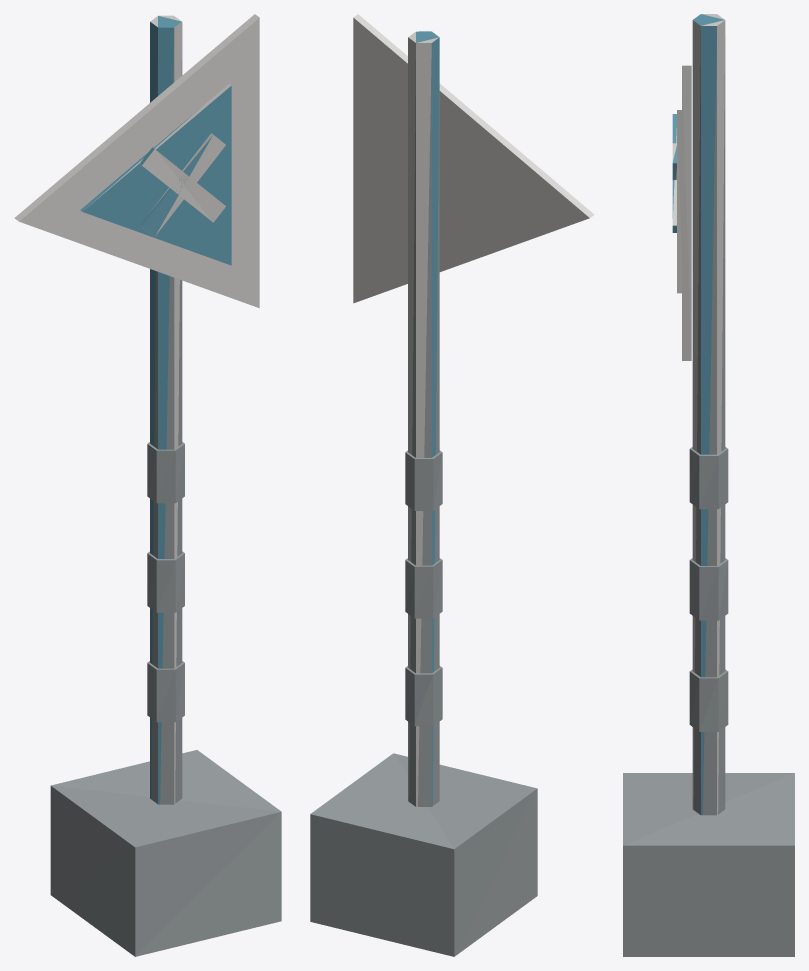
The model's file is road-sign-00.glb.
The picture shows the model from 3 angles, left to right: view 1: azimuth 30°, elevation 25°; view 2: azimuth 150°, elevation 25°; view 3: azimuth 270°, elevation 25°; orthographic projection. The views are drawn at different scales.
Visible parts, largest first — view 1: road_sign_00; view 2: road_sign_00; view 3: road_sign_00.
Boxes of the visible parts, left/top/right/bottom form: road_sign_00: left=14, top=14, right=281, bottom=956; road_sign_00: left=310, top=14, right=594, bottom=956; road_sign_00: left=623, top=14, right=794, bottom=956.
Size of the model in its own units: 0.5748 by 2.02 by 0.35.
